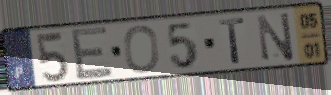5: (34, 30, 72, 84), (167, 20, 201, 71)
E: (68, 24, 115, 83)
N: (255, 10, 296, 63)
O: (122, 24, 161, 75)
T: (217, 16, 247, 66)
